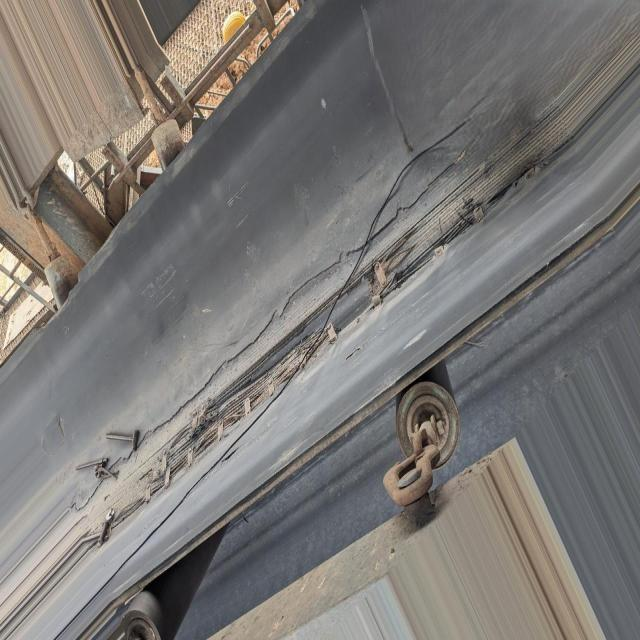Tear: (86, 157, 518, 535)
